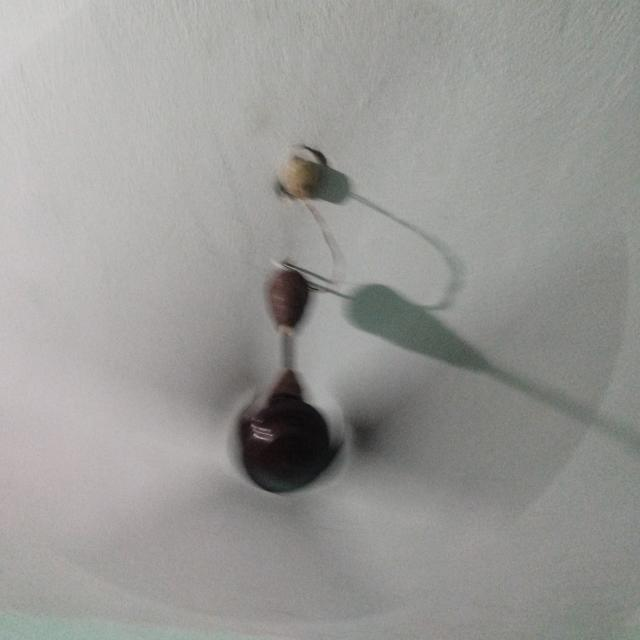fan_on: (17, 132, 630, 620)
